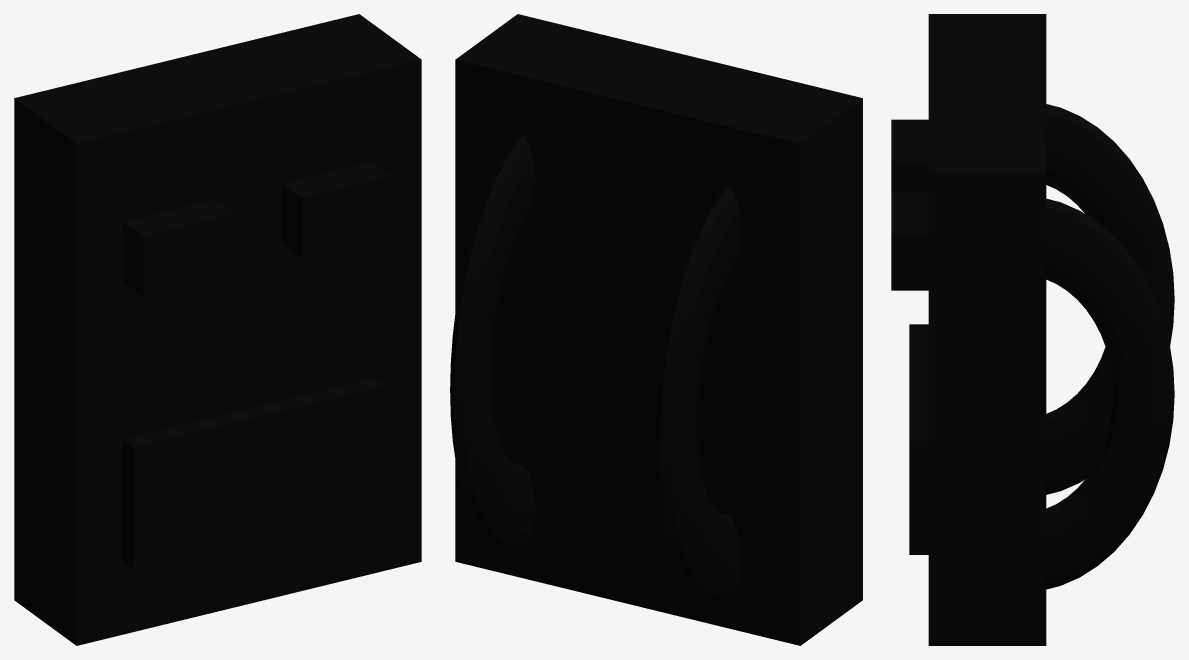
The model's file is Mochila Amarilla.fbx.
The picture shows the model from 3 angles, left to right: view 1: azimuth 30°, elevation 25°; view 2: azimuth 150°, elevation 25°; view 3: azimuth 270°, elevation 25°; orthographic projection. The views are drawn at different scales.
Parts seen in each view (by area): view 1: Cube.001; view 2: Cube.001; view 3: Cube.001.
Boxes of the visible parts, bbox=[...] form: Cube.001: bbox=[14, 14, 421, 645]; Cube.001: bbox=[450, 14, 862, 645]; Cube.001: bbox=[891, 14, 1174, 645].
Size of the model in its own units: 200 by 278 by 151.
